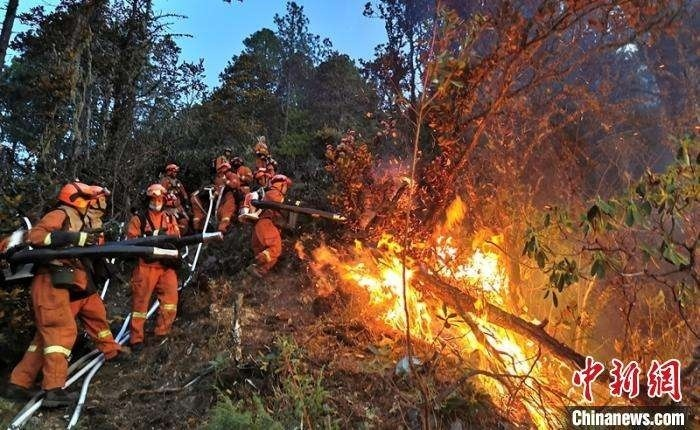fire: (339, 196, 570, 418)
